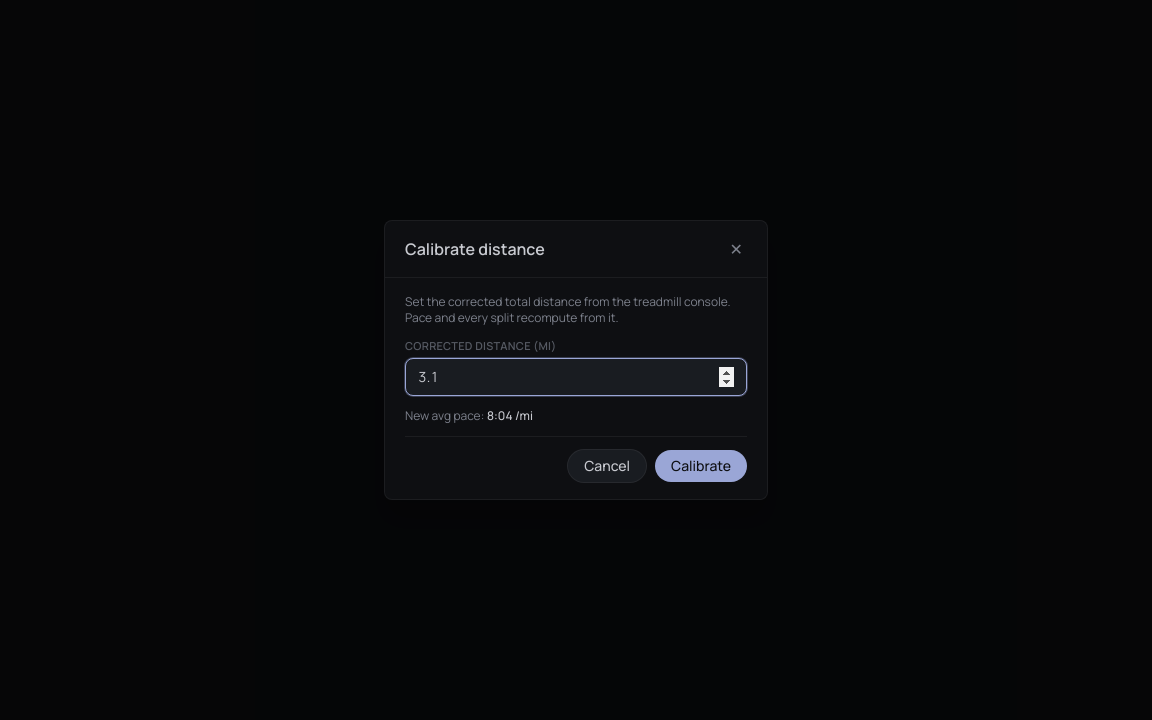
CalibrateDistanceModal › surfaces the API error message on failure
Replace the text in the number field labelled "Corrected distance (mi)" with "3.0": (576, 377) top-left (405, 358), bottom-right (747, 396)
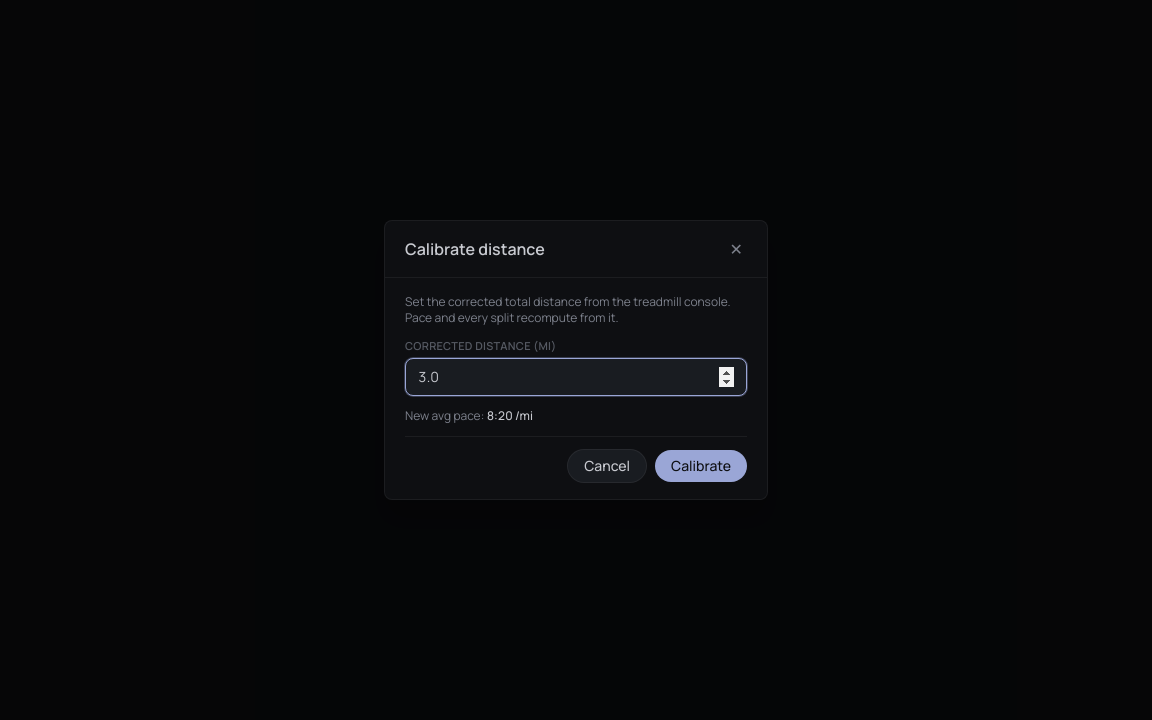
Click the button "Calibrate": click(701, 466) top-left (655, 450), bottom-right (747, 482)
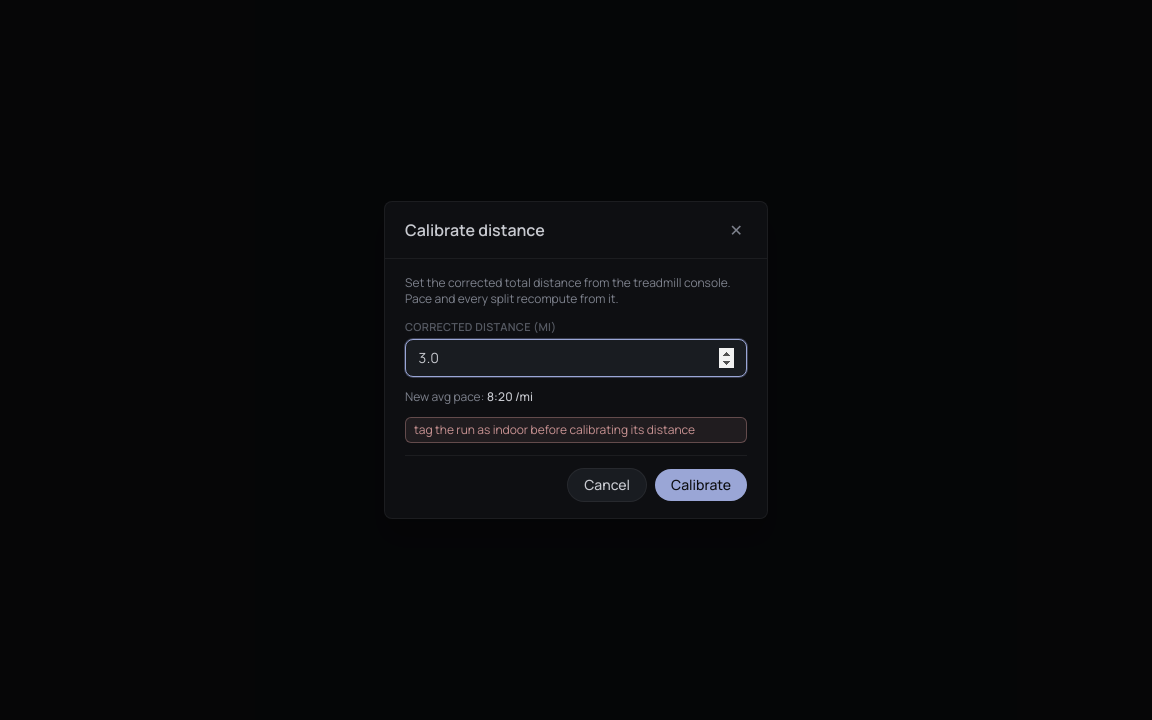
Now the text "tag the run as indoor before calibrating its distance" is shown, box top-left (405, 417), bottom-right (747, 443)
